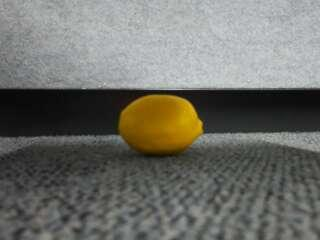lemon: (120, 95, 205, 155)
